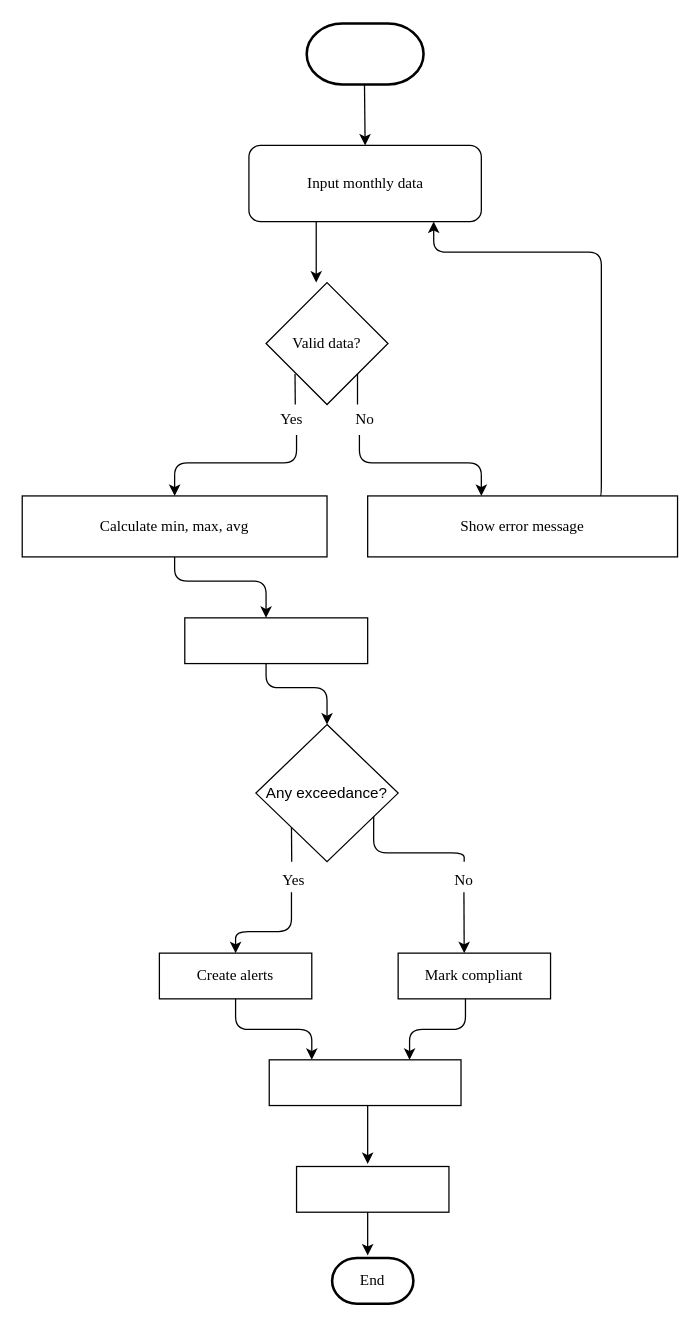
The diagram is 700 pixels wide and 1326 high, and some of its shapes have lost their labels. Here are the shapes that lost their labels. From the top down, the centre of each, then its label:
pixel 364 53: Start
pixel 276 640: Compare with thresholds
pixel 364 1082: Display table and chart
pixel 372 1188: Save CSV and report
